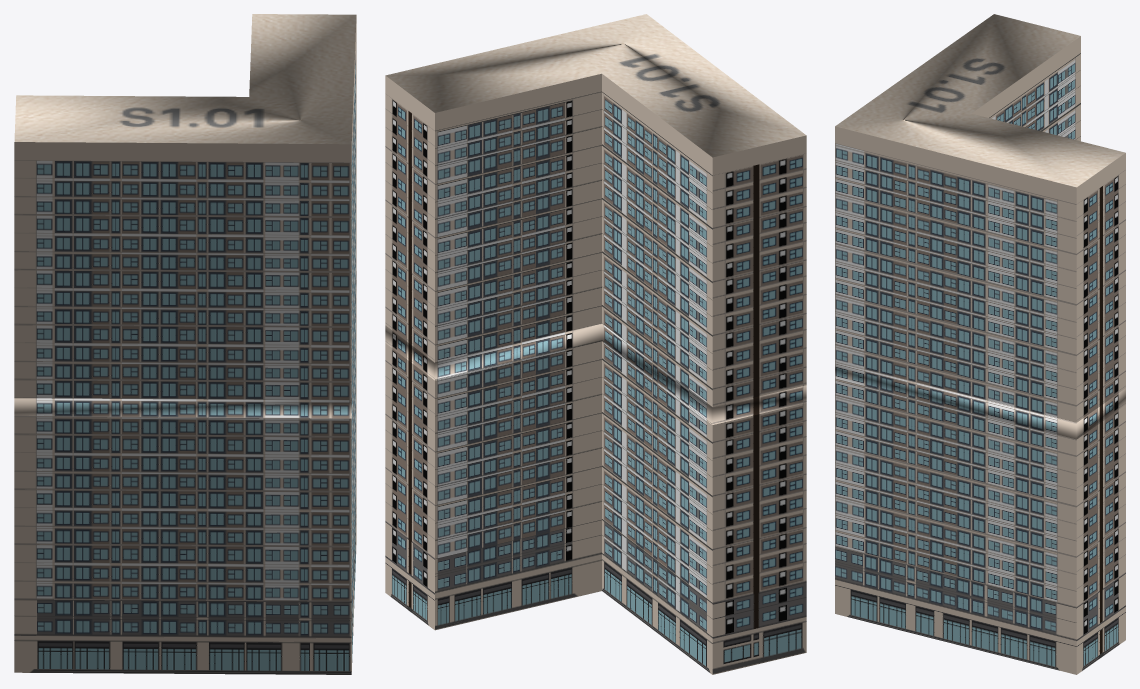
3 renders of one model, left to right at view 1: azimuth 30°, elevation 25°; view 2: azimuth 150°, elevation 25°; view 3: azimuth 270°, elevation 25°, orthographic. The views are drawn at different scales.
Visible parts, largest first — view 1: Asset3DLoader.sceneRoot; view 2: Asset3DLoader.sceneRoot; view 3: Asset3DLoader.sceneRoot.
Part boxes in pixels (x1,y1,x2,y2): Asset3DLoader.sceneRoot: (14,14,356,674); Asset3DLoader.sceneRoot: (385,14,806,674); Asset3DLoader.sceneRoot: (835,14,1125,674).
Size of the model in its own units: 72.87 by 95.5 by 51.63.
1 material, 1 textured.
